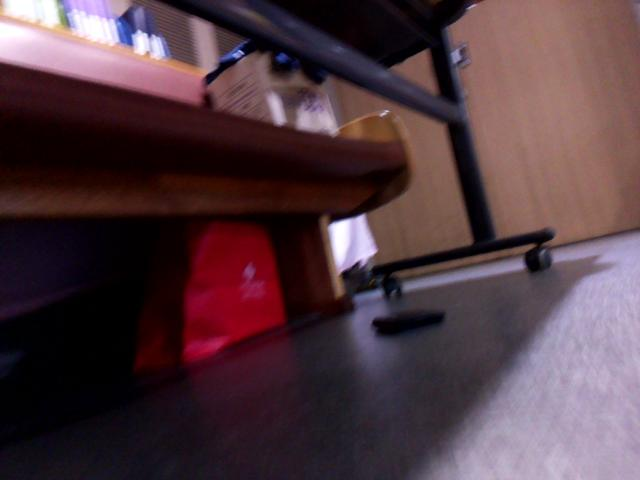wallet: (369, 300, 450, 347)
